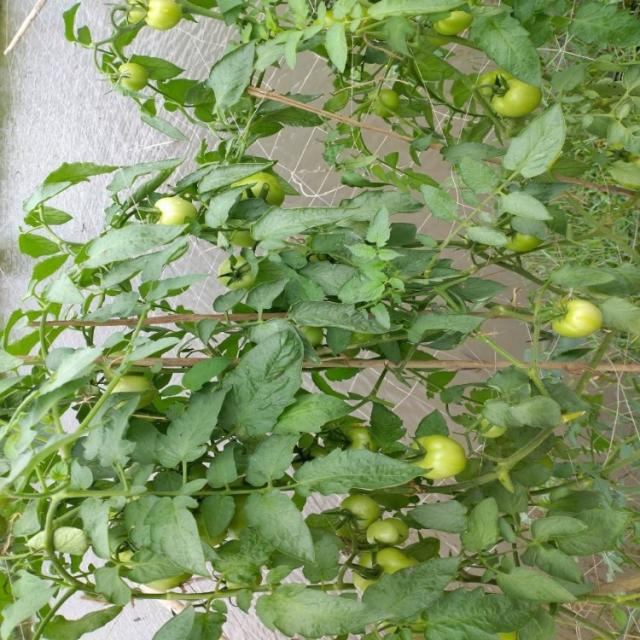tomato: (387, 423, 480, 497), (339, 538, 422, 606), (467, 54, 544, 125), (230, 155, 291, 217), (136, 183, 195, 242), (547, 295, 608, 352), (356, 505, 419, 557), (204, 253, 262, 309), (37, 509, 89, 570), (107, 50, 161, 106), (327, 481, 379, 538), (124, 1, 194, 33)
